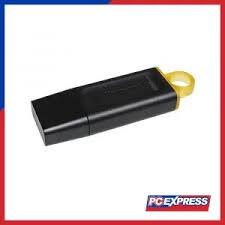Flash-drive: (17, 48, 206, 156)
